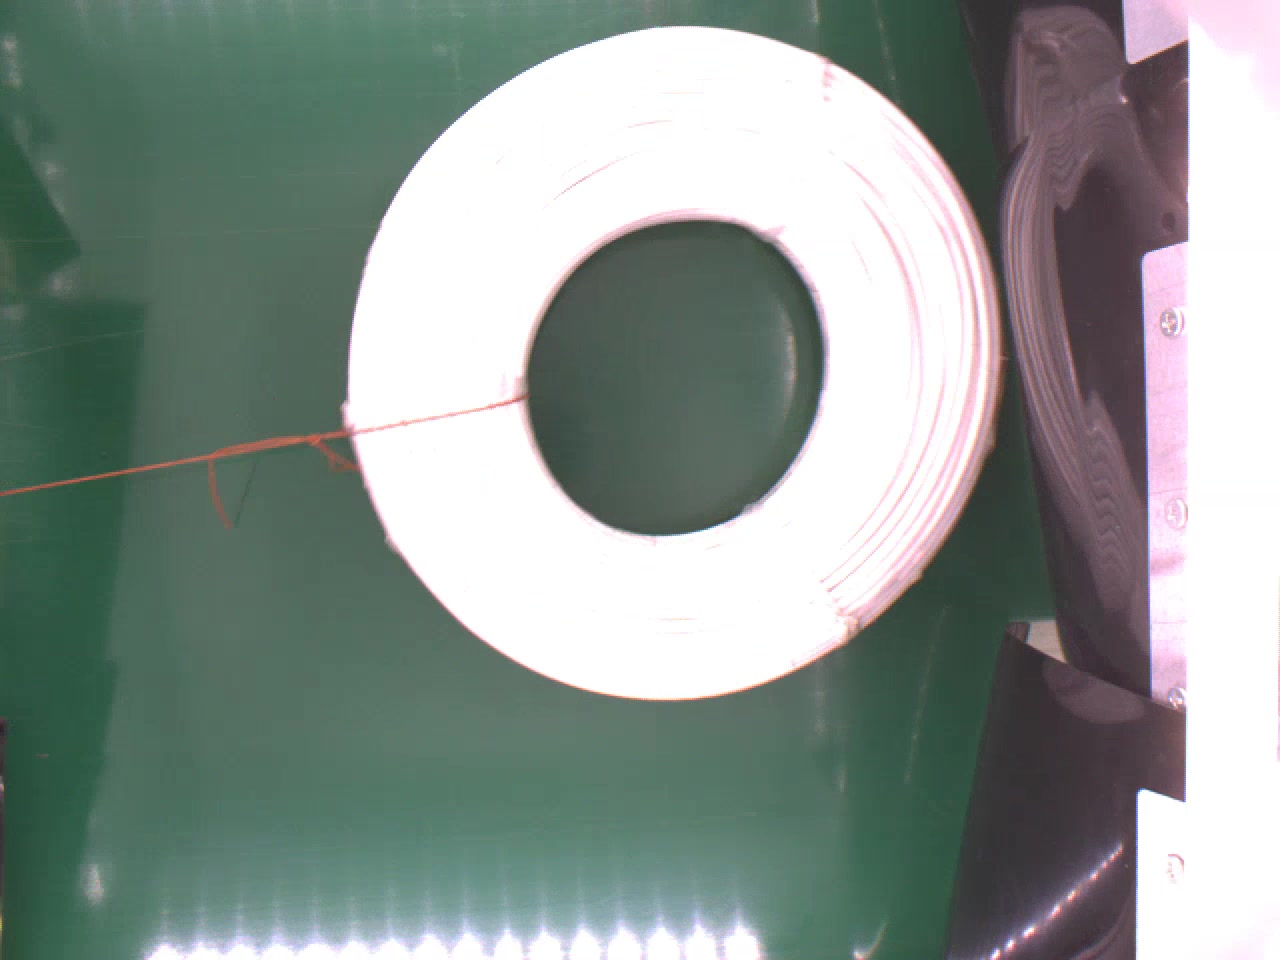white: (342, 24, 1013, 700)
